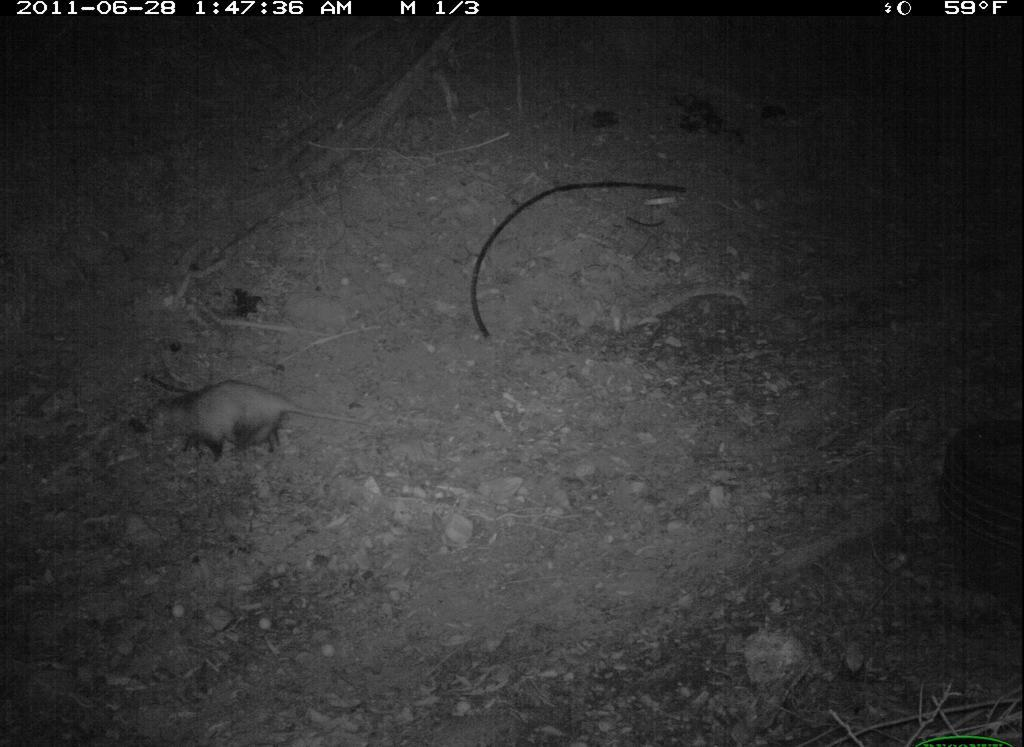opossum: (121, 377, 365, 468)
